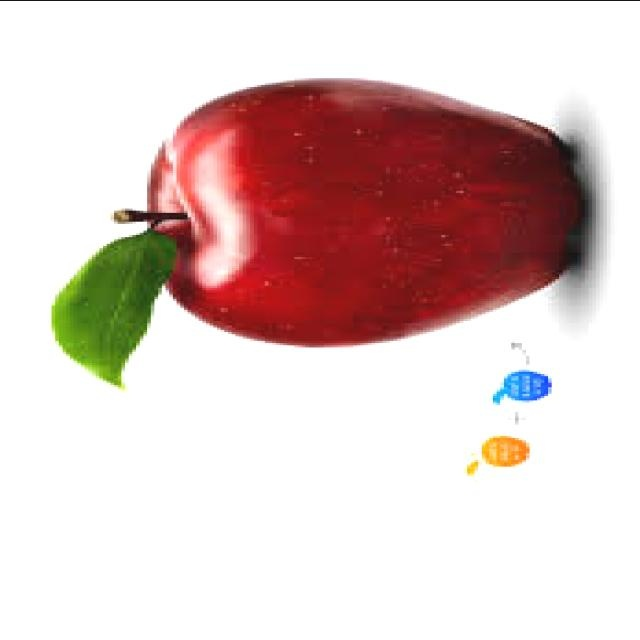agrume: (50, 49, 598, 391)
